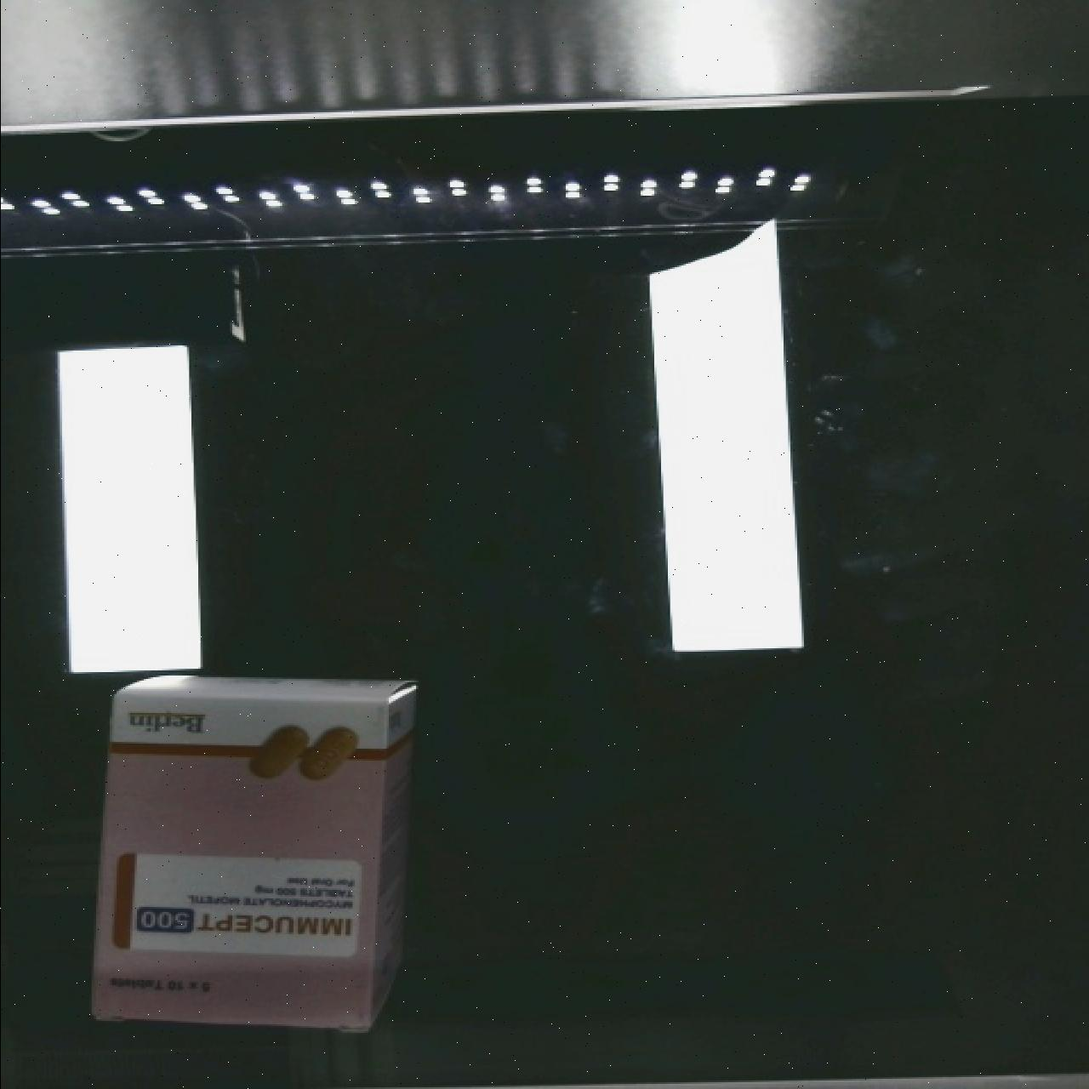medicine_label_obb: (114, 900, 360, 955)
